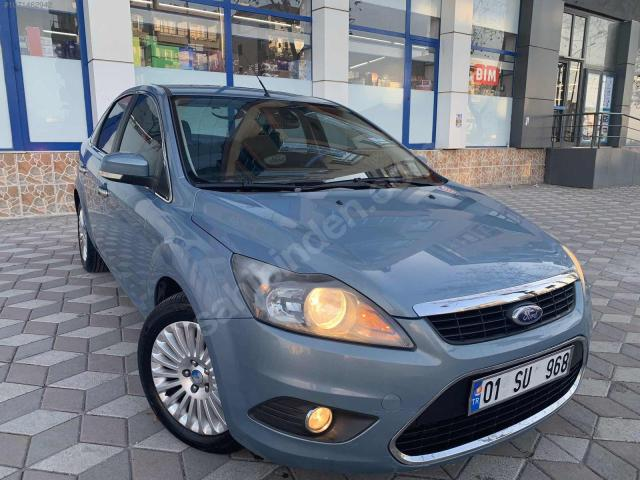plaka: (468, 345, 574, 415)
